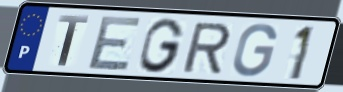1: (289, 24, 317, 81)
E: (85, 15, 145, 72)
G: (137, 16, 187, 75), (231, 22, 280, 79)
R: (180, 21, 233, 75)
T: (57, 13, 91, 68)
